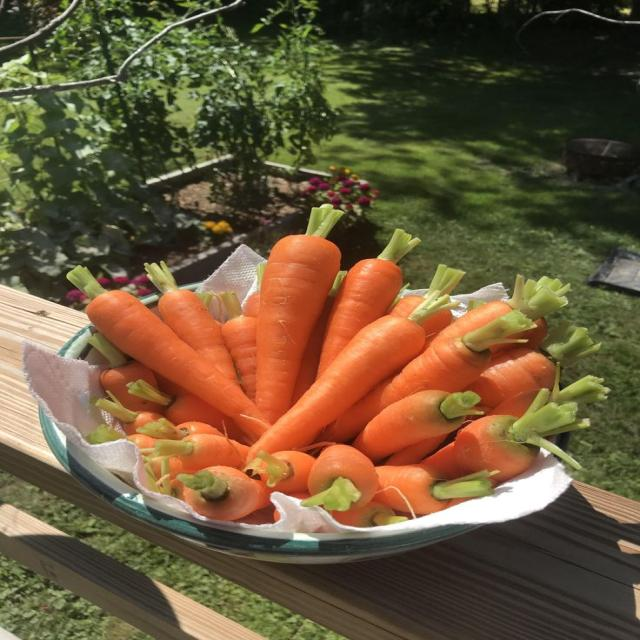carrot: (67, 267, 268, 439), (322, 310, 532, 441), (252, 316, 425, 456), (256, 205, 343, 422), (319, 229, 419, 375), (454, 389, 588, 482), (145, 261, 237, 383), (353, 390, 480, 461), (434, 275, 570, 341), (293, 271, 346, 403), (88, 334, 161, 412), (376, 466, 493, 514), (467, 348, 555, 407), (301, 445, 377, 510), (178, 466, 267, 521), (128, 381, 224, 427), (219, 291, 257, 400), (389, 265, 465, 317), (154, 434, 247, 472), (245, 451, 315, 494), (92, 391, 162, 434), (541, 321, 601, 366), (548, 365, 610, 404), (331, 501, 406, 527), (386, 434, 448, 465), (420, 442, 469, 479), (138, 419, 226, 439), (85, 425, 155, 449), (243, 262, 266, 318), (137, 418, 188, 440), (85, 425, 126, 444), (176, 421, 226, 436), (127, 434, 154, 449), (289, 491, 309, 499)
